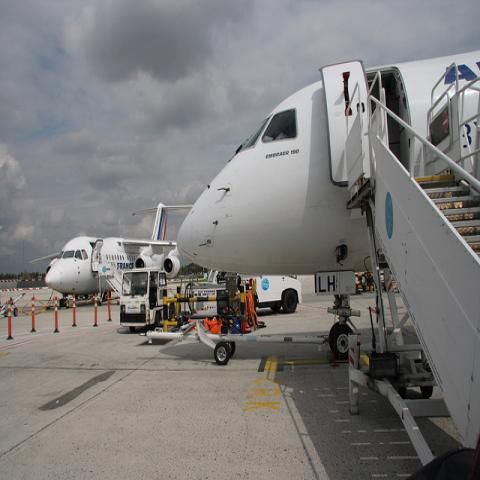truck: (120, 270, 205, 330)
